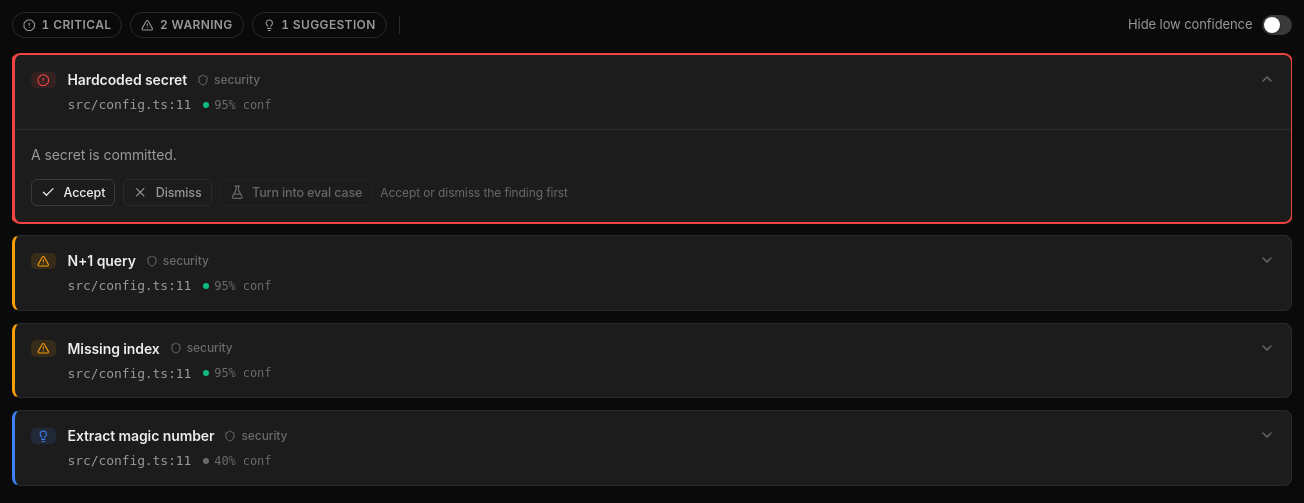
Test: FindingsPanel — severity counters › the pills follow the hide-low-confidence toggle, so they never over-count
The width and height of the screenshot is (1304, 503).
Expected: the text "1 SUGGESTION" is shown, 281,16 -> 376,34
// The only SUGGESTION sits below the confidence threshold.
Click the switch: (1277, 25) 1262,15 -> 1292,35
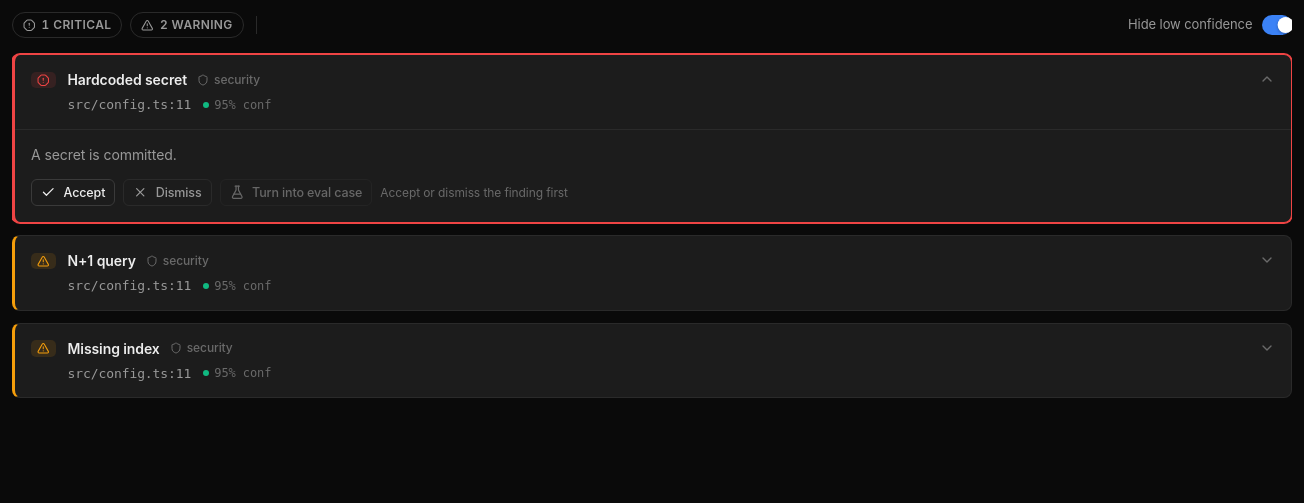
Expected: the button "1 SUGGESTION" is gone
